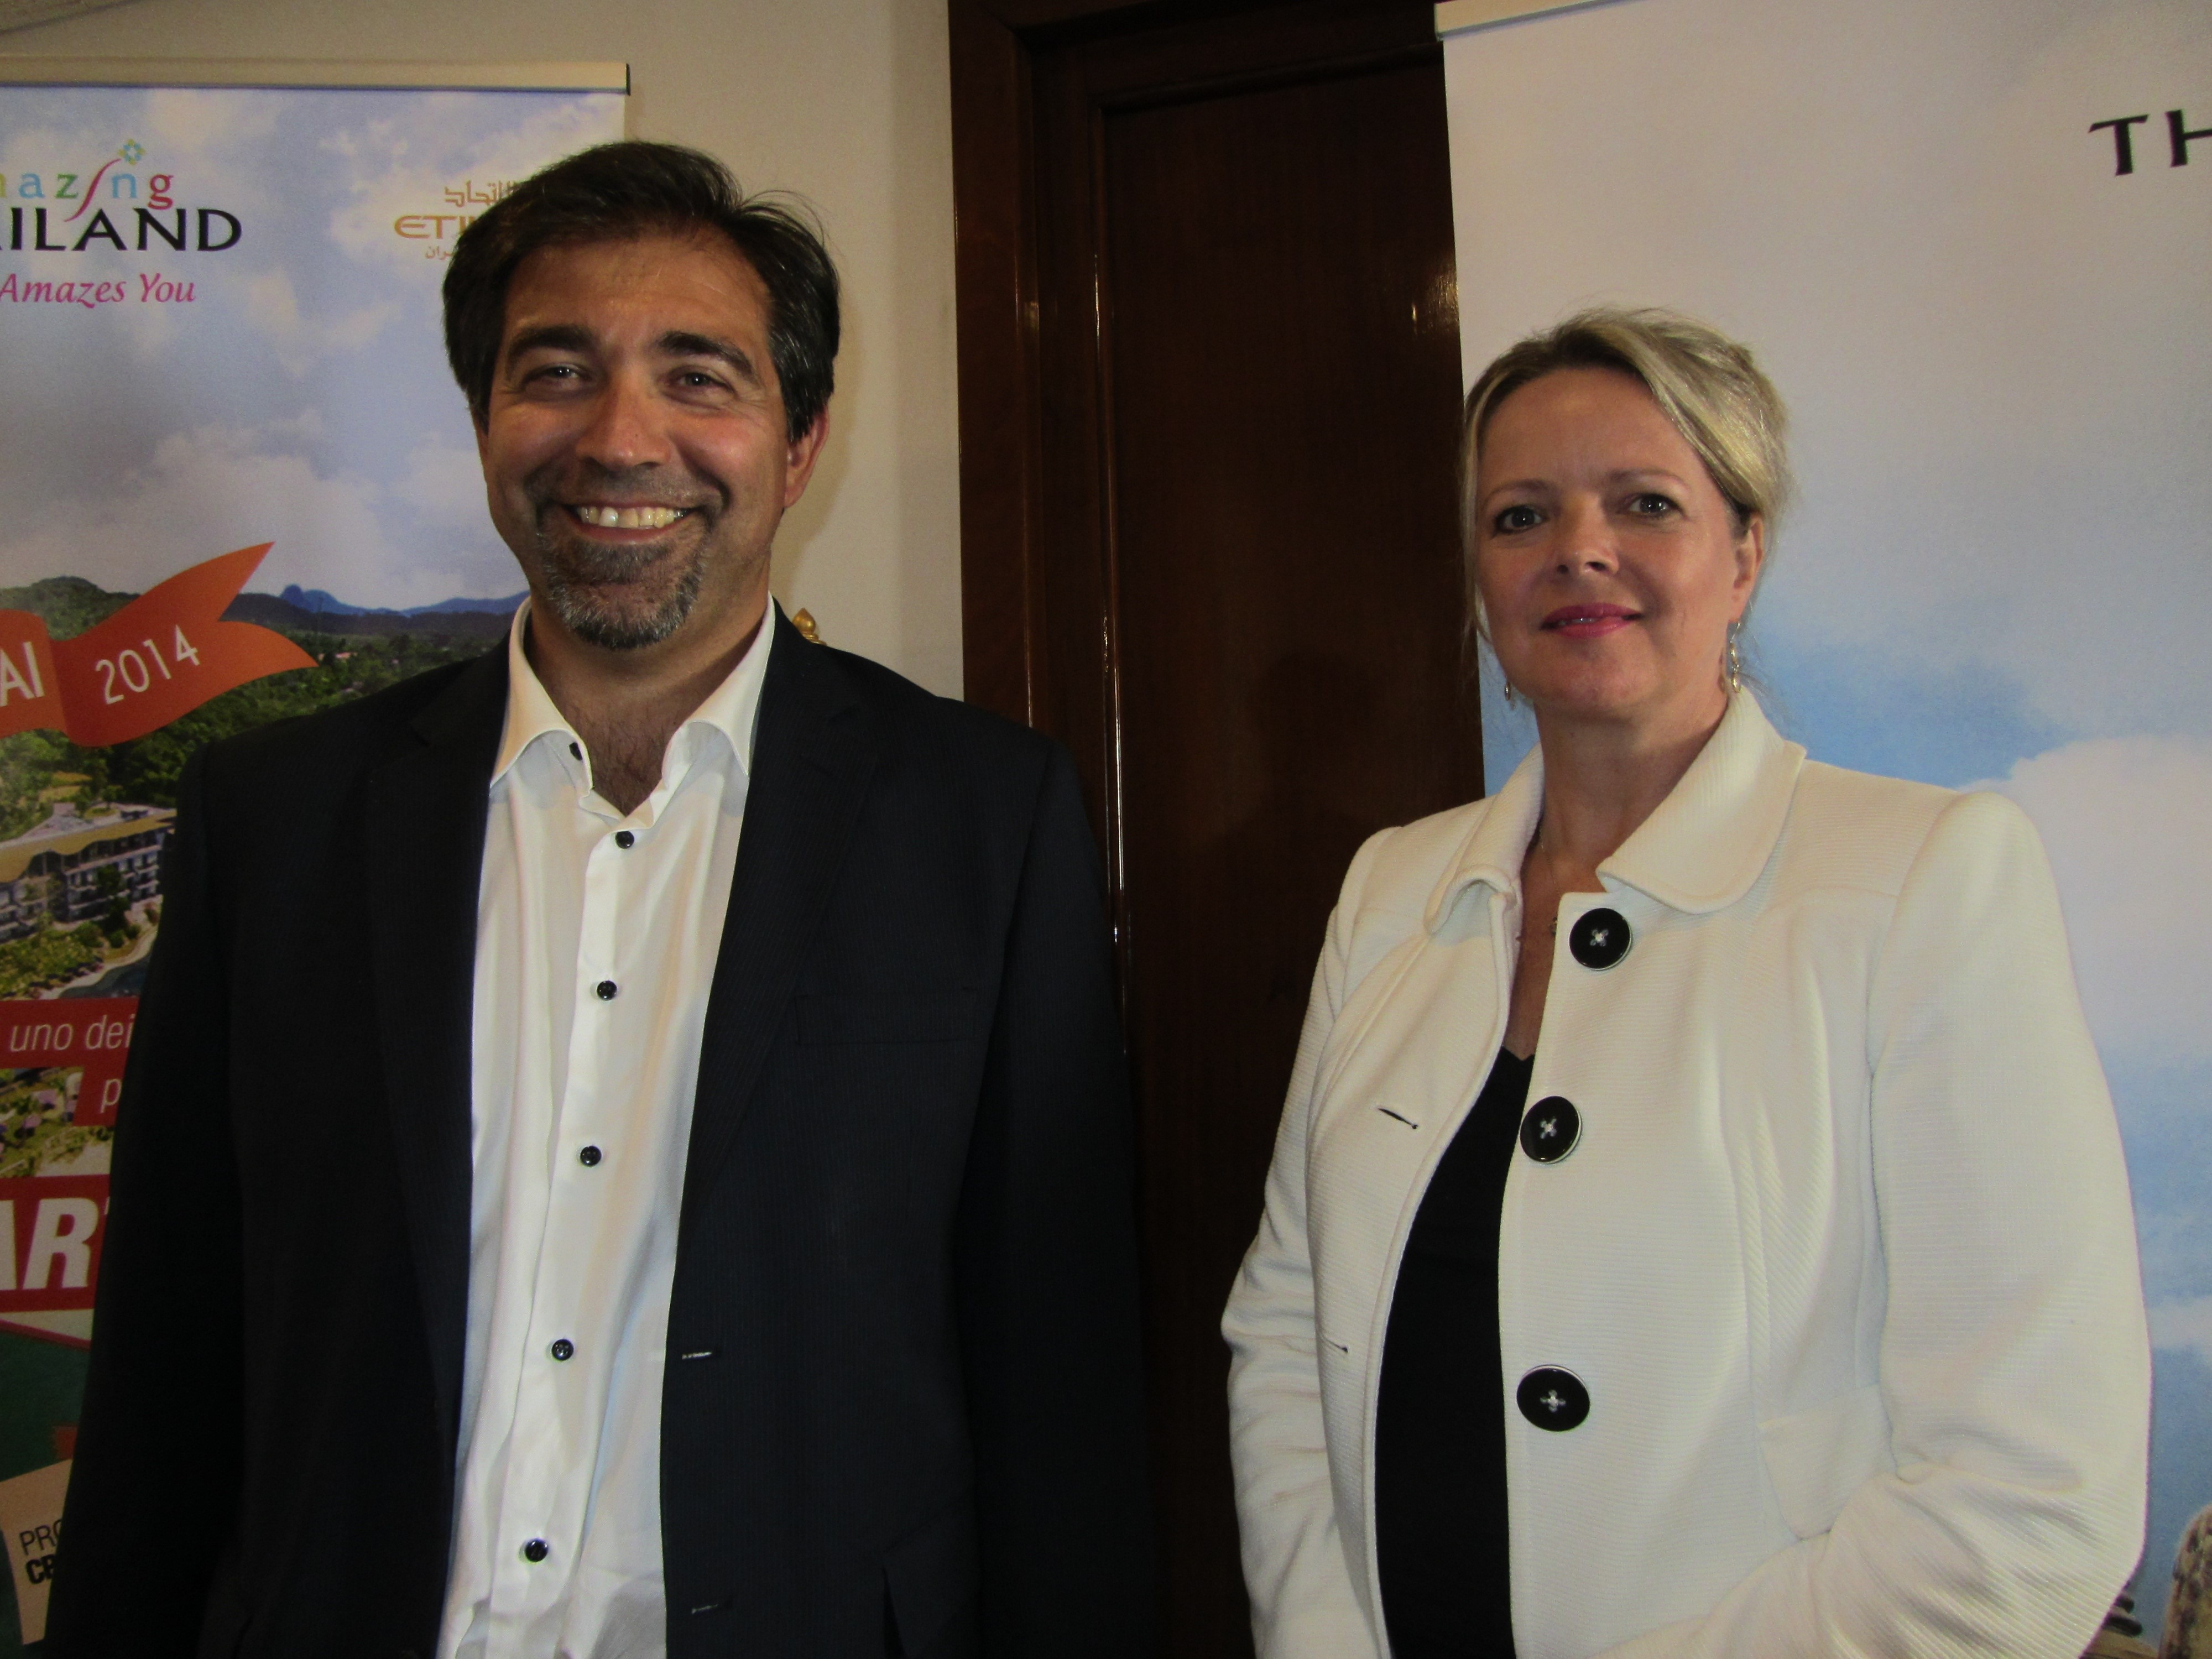face_no_mask: (446, 146, 841, 638), (1464, 297, 1783, 702)
